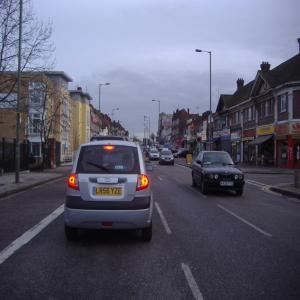Vehicle-registration-plate: (93, 187, 122, 197), (221, 180, 234, 189)
